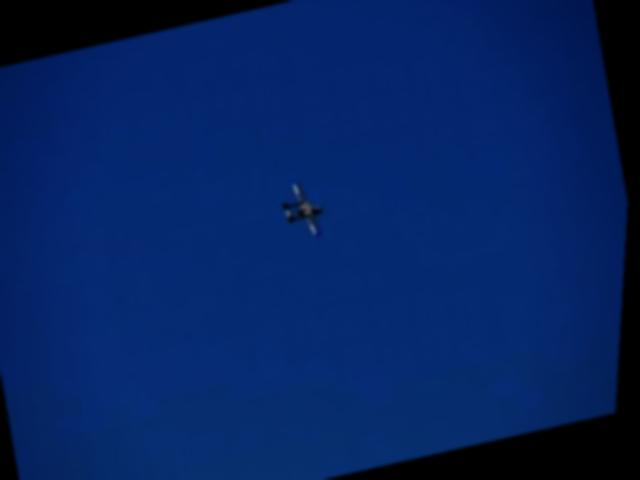uav: (277, 176, 335, 244)
